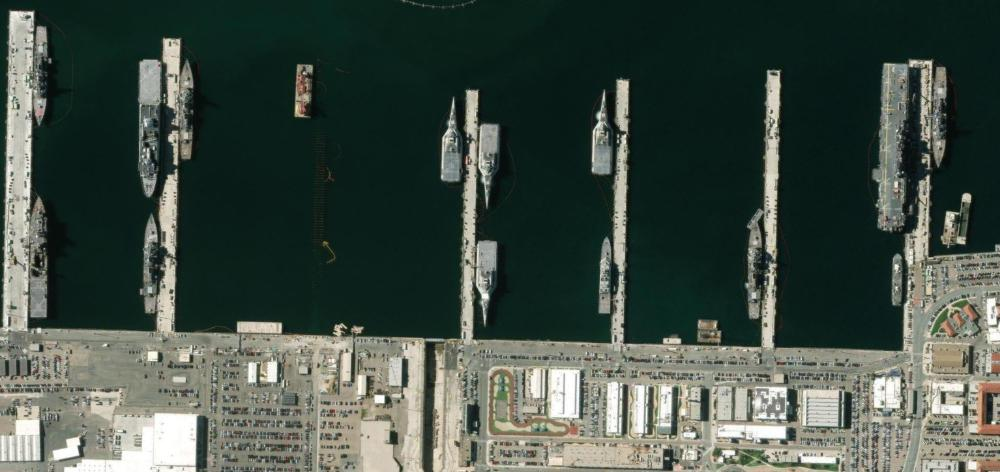amphiby: (137, 56, 166, 200), (29, 193, 53, 325)
fregate: (743, 216, 768, 323), (932, 60, 952, 169), (141, 211, 161, 318), (32, 22, 51, 128)
littoral combat ship: (473, 238, 503, 328), (590, 86, 617, 182), (439, 92, 466, 186), (479, 122, 502, 210)
pha: (875, 57, 921, 237)
